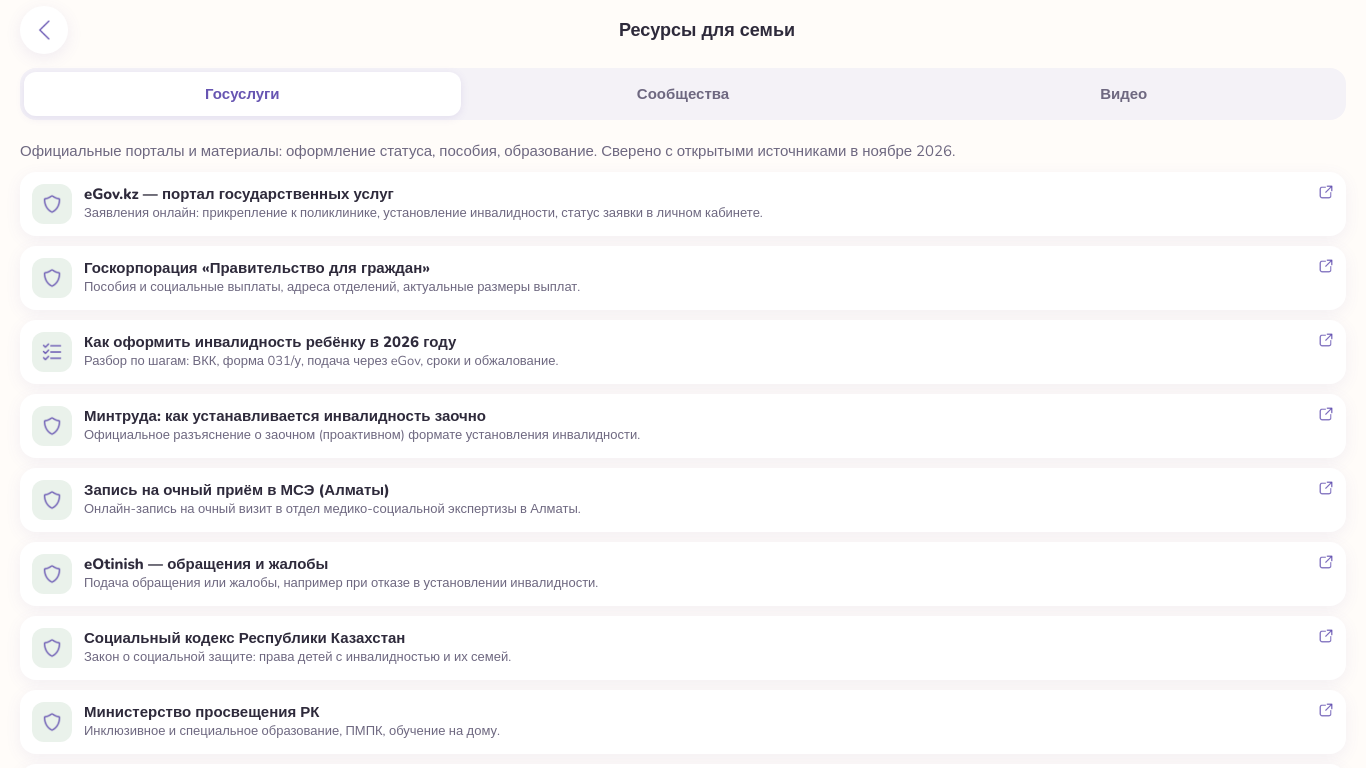
Test case: resources › government services tab lists official links; videos are built from the card
Step 1. Click the button "Видео" → (1124,94), box [905,72,1342,116]
(page scrolled)
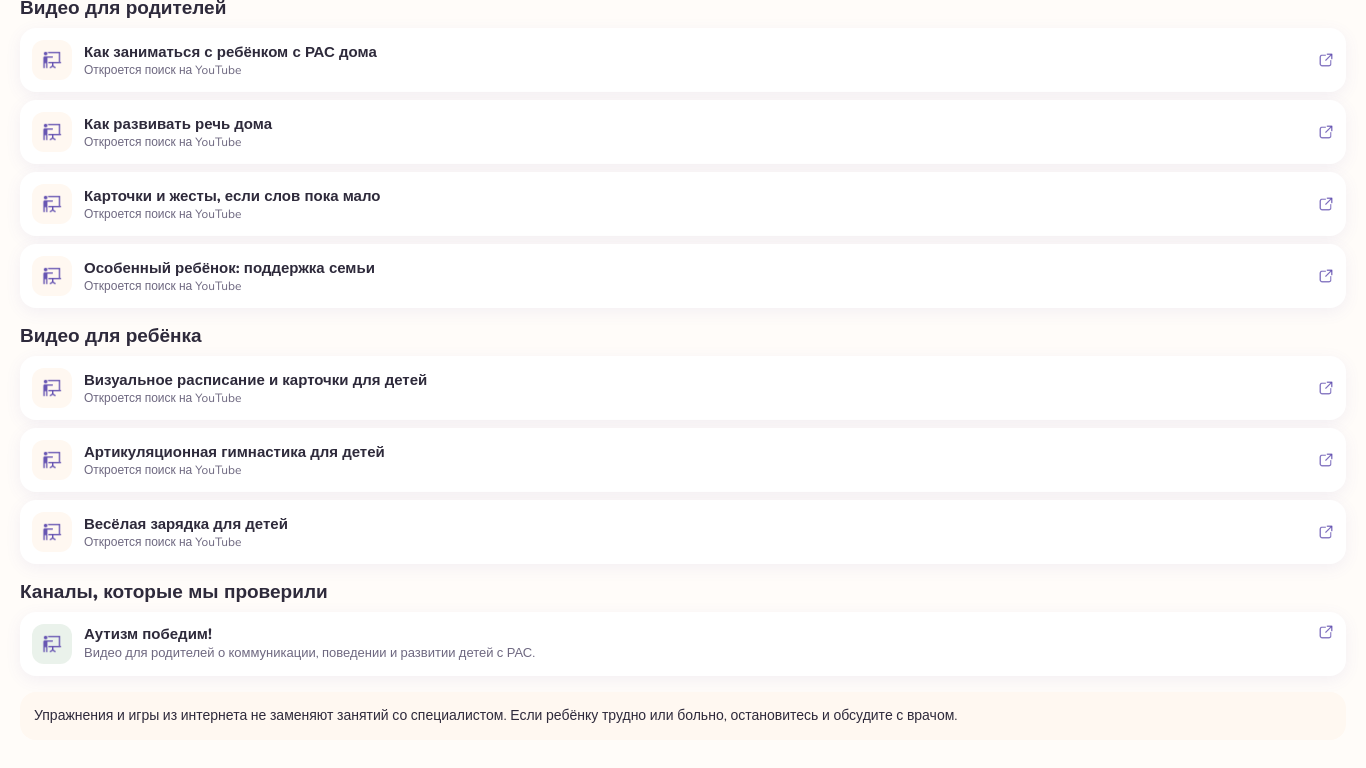
Check: the heading "Видео для ребёнка" is shown, box [20,323,202,349]
Check: the text "не заменяют занятий со специалистом" is shown, box [34,706,958,725]
